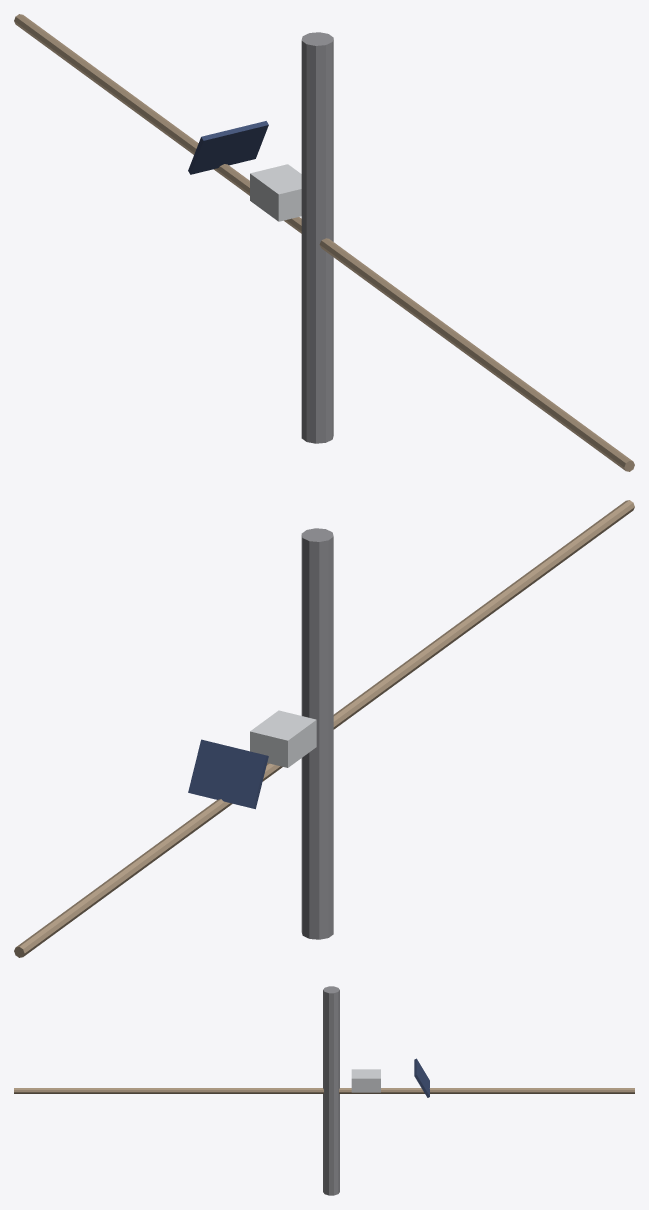
Rendered from boundary_fence_sensor.glb.
3 renders of one model, top to bottom at view 1: azimuth 30°, elevation 25°; view 2: azimuth 150°, elevation 25°; view 3: azimuth 270°, elevation 25°, orthographic. The views are drawn at different scales.
Visible parts, largest first — view 1: Boundary_Sensor_Post; view 2: Boundary_Sensor_Post; view 3: Boundary_Sensor_Post.
Part boxes in pixels (x1,y1,x2,y2): Boundary_Sensor_Post: (14, 14, 634, 471); Boundary_Sensor_Post: (14, 500, 634, 957); Boundary_Sensor_Post: (14, 986, 634, 1195).
Bounding box in the file's own units: 0.55 × 3.2 × 8.9.
